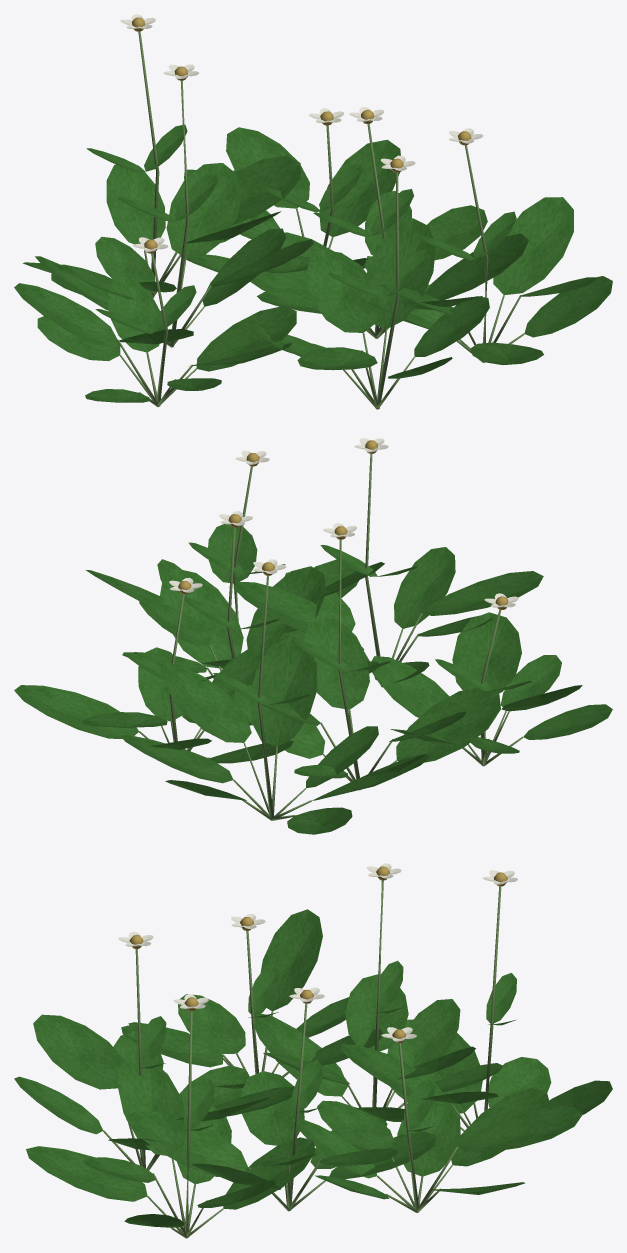
The model's file is Woodland_Forb_Flowering_01_LOD1.fbx.
3 views of the same model, one above another, from view 1: azimuth 30°, elevation 25°; view 2: azimuth 150°, elevation 25°; view 3: azimuth 270°, elevation 25° (orthographic). The views are drawn at different scales.
Visible parts, largest first — view 1: Woodland_Forb_Flowering_01_LOD1_Mesh; view 2: Woodland_Forb_Flowering_01_LOD1_Mesh; view 3: Woodland_Forb_Flowering_01_LOD1_Mesh.
Boxes of the visible parts, x1,y1,x2,y2 form: Woodland_Forb_Flowering_01_LOD1_Mesh: (14, 14, 612, 409); Woodland_Forb_Flowering_01_LOD1_Mesh: (14, 438, 612, 834); Woodland_Forb_Flowering_01_LOD1_Mesh: (14, 863, 612, 1238).
Size of the model in its own units: 67.55 by 33.45 by 66.2.
Materials: 4 (1 with a texture image).
